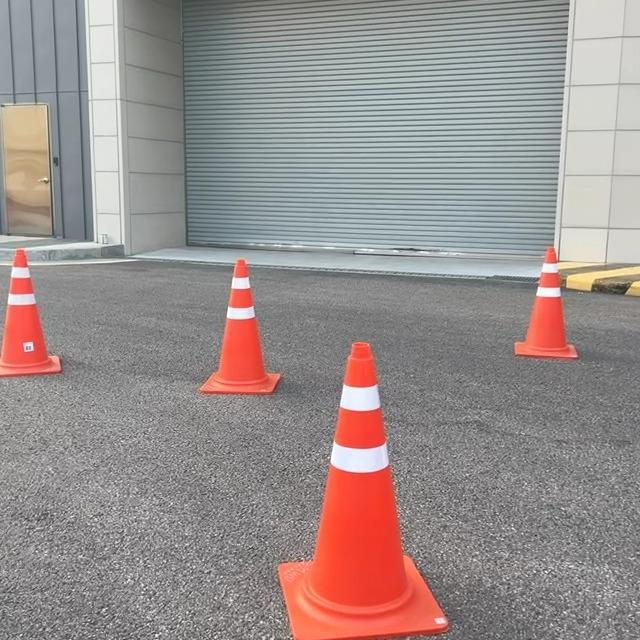fallen_object: (225, 302, 460, 617), (147, 239, 314, 407), (0, 225, 81, 396), (483, 233, 578, 355)
